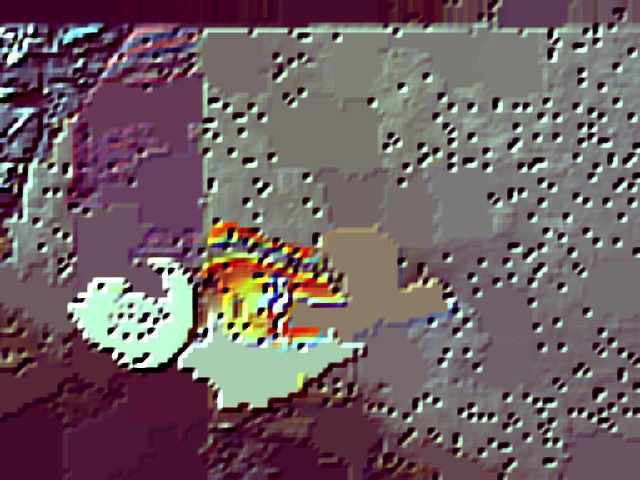eight: (109, 290, 161, 336)
